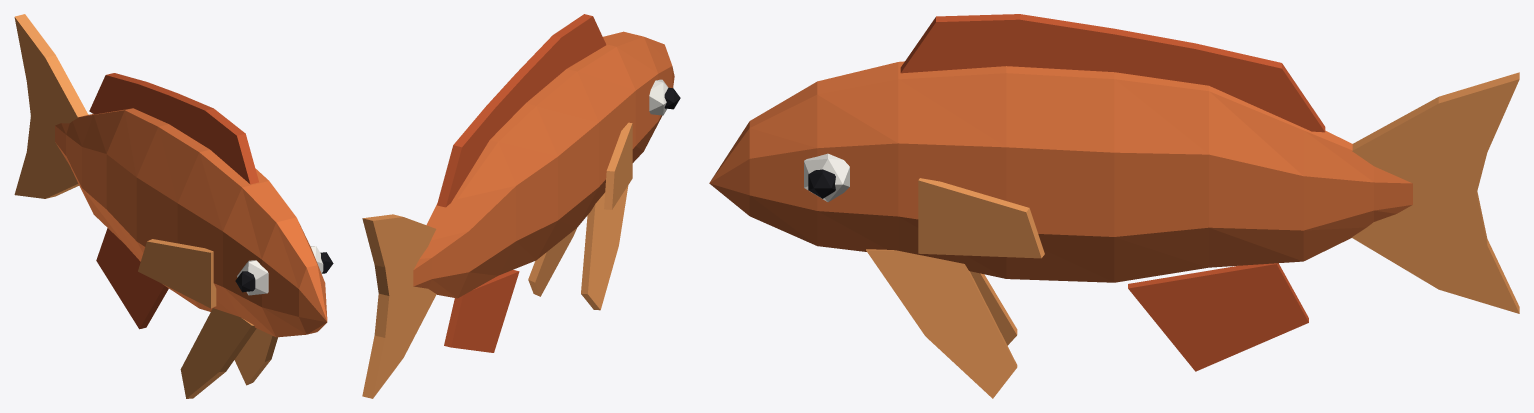
Rendered from Fish.obj.
3 renders of one model, left to right at view 1: azimuth 30°, elevation 25°; view 2: azimuth 150°, elevation 25°; view 3: azimuth 270°, elevation 25°, orthographic. The views are drawn at different scales.
Parts seen in each view (by area): view 1: Body, Tail, Dorsal, PelvicL, PectoralL, Anal, PelvicR, EyeL, PupilL; view 2: Body, Tail, Dorsal, Anal, PelvicL, PectoralL, PelvicR, EyeL; view 3: Body, Tail, Dorsal, Anal, PelvicR, PectoralR, EyeR, PelvicL.
Boxes of the visible parts, left/top/right/bottom form: Body: left=55, top=108, right=327, bottom=337; Tail: left=14, top=14, right=88, bottom=198; Dorsal: left=89, top=73, right=258, bottom=184; PelvicL: left=180, top=308, right=256, bottom=398; PectoralL: left=138, top=239, right=216, bottom=308; Anal: left=96, top=228, right=168, bottom=329; PelvicR: left=234, top=328, right=277, bottom=385; EyeL: left=237, top=260, right=268, bottom=295; PupilL: left=235, top=271, right=255, bottom=292; Body: left=413, top=31, right=674, bottom=298; Tail: left=362, top=214, right=436, bottom=398; Dorsal: left=437, top=14, right=606, bottom=207; Anal: left=444, top=270, right=519, bottom=352; PelvicL: left=581, top=185, right=628, bottom=310; PectoralL: left=604, top=122, right=632, bottom=209; PelvicR: left=528, top=228, right=576, bottom=296; EyeL: left=649, top=79, right=668, bottom=115; Body: left=709, top=61, right=1412, bottom=282; Tail: left=1351, top=72, right=1519, bottom=313; Dorsal: left=900, top=14, right=1325, bottom=132; Anal: left=1128, top=263, right=1308, bottom=371; PelvicR: left=866, top=249, right=1017, bottom=398; PectoralR: left=918, top=178, right=1044, bottom=258; EyeR: left=804, top=153, right=849, bottom=202; PelvicL: left=970, top=271, right=1017, bottom=345.
Size of the model in its own units: 0.0715 by 0.1479 by 0.3.
